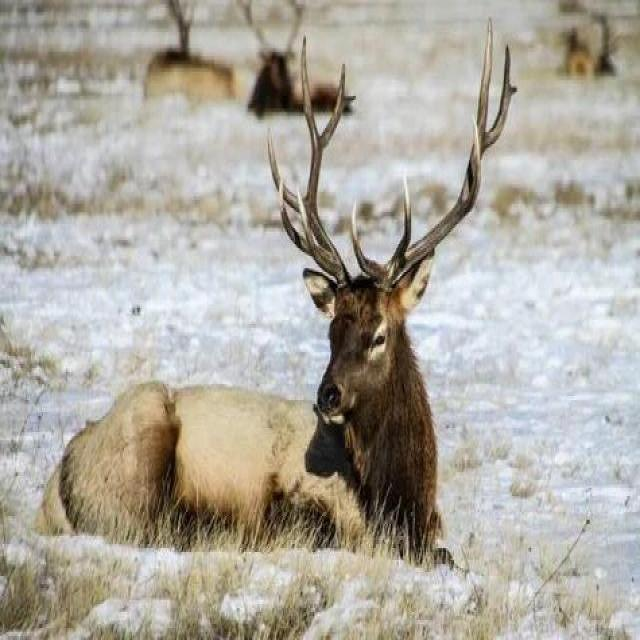deer: (61, 147, 538, 626)
